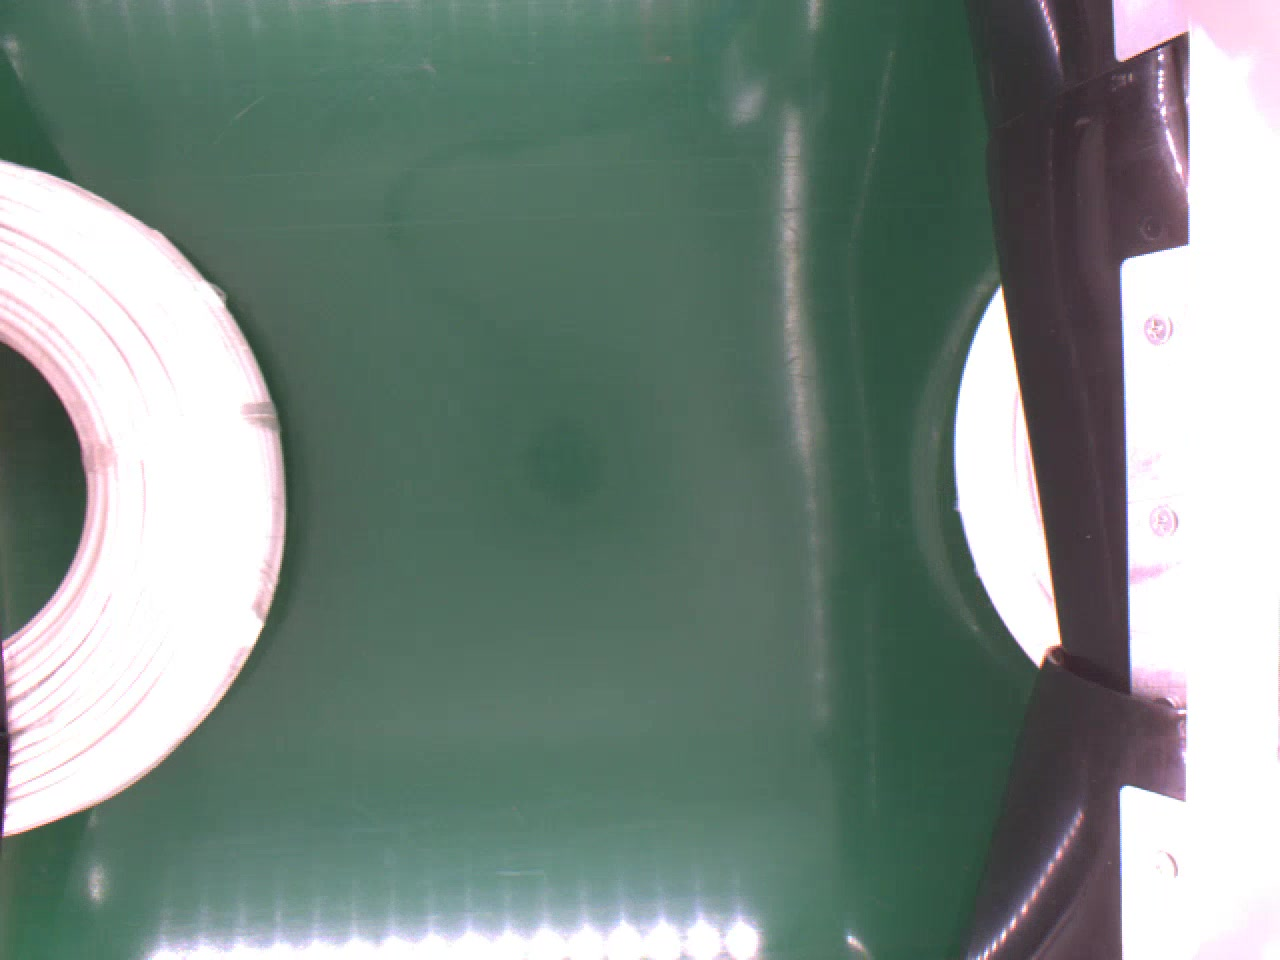white: (0, 151, 289, 830)
